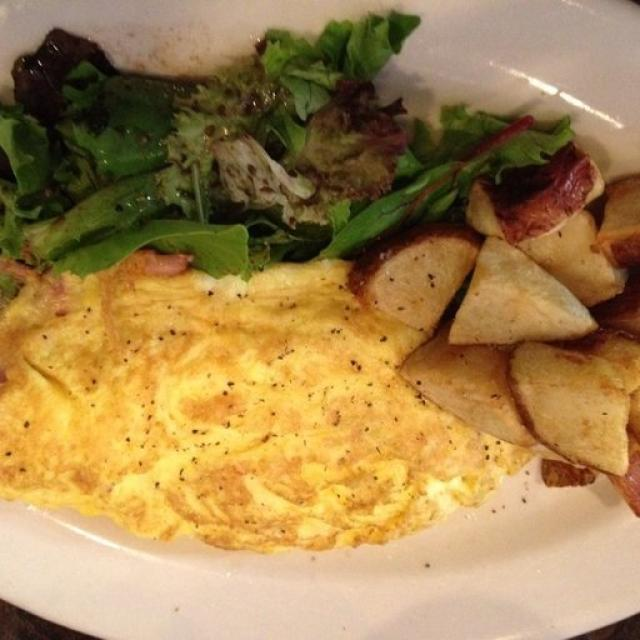telur_ayam_dadar: (0, 260, 549, 559)
